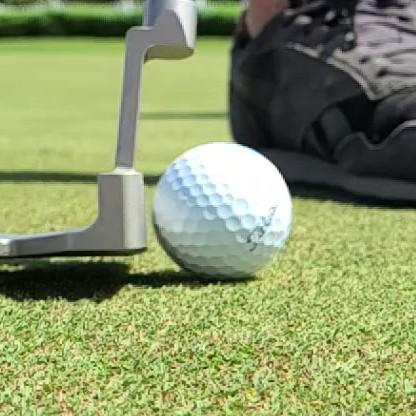golfball: (152, 143, 292, 280)
